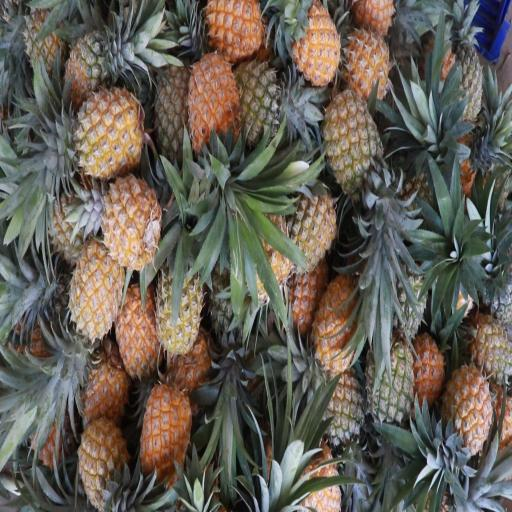------------------------------: (322, 81, 388, 206), (56, 20, 131, 110), (150, 234, 200, 349), (227, 47, 287, 131)
Pineapple - v8 v1: (54, 85, 148, 186), (100, 159, 162, 271), (61, 228, 122, 340), (181, 55, 244, 163), (305, 270, 363, 386), (134, 380, 190, 488), (438, 342, 488, 458), (73, 413, 131, 512), (275, 154, 332, 251), (111, 268, 163, 368), (288, 0, 344, 91), (337, 31, 400, 108), (203, 0, 262, 67)
